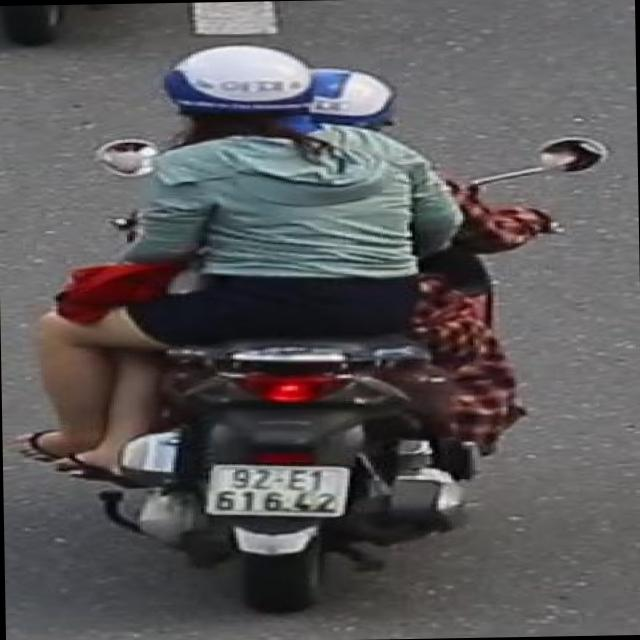LP: (205, 456, 356, 522)
helmet: (160, 40, 316, 118), (296, 56, 404, 138)
